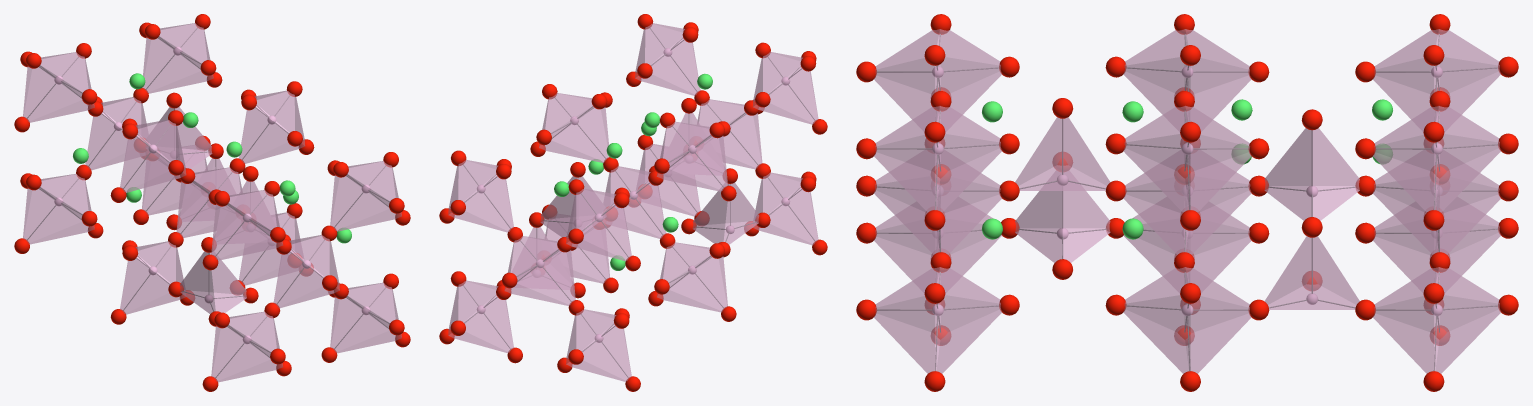
The picture shows the model from 3 angles, left to right: view 1: azimuth 30°, elevation 25°; view 2: azimuth 150°, elevation 25°; view 3: azimuth 270°, elevation 25°; orthographic projection. The views are drawn at different scales.
Parts seen in each view (by area): view 1: Shape_IndexedFaceSet, atom3_IndexedFaceSet, Shape_Cylinder, atom0_IndexedFaceSet, atom1_IndexedFaceSet; view 2: Shape_IndexedFaceSet, atom3_IndexedFaceSet, Shape_Cylinder, atom0_IndexedFaceSet, atom1_IndexedFaceSet; view 3: Shape_IndexedFaceSet, atom3_IndexedFaceSet, Shape_Cylinder, atom0_IndexedFaceSet, atom1_IndexedFaceSet.
Boxes of the visible parts, box(x1,y1,x2,y2) form: Shape_IndexedFaceSet: box(23, 23, 401, 382); atom3_IndexedFaceSet: box(14, 14, 410, 391); Shape_Cylinder: box(27, 28, 397, 377); atom0_IndexedFaceSet: box(73, 73, 351, 243); atom1_IndexedFaceSet: box(54, 46, 370, 343); Shape_IndexedFaceSet: box(448, 23, 818, 381); atom3_IndexedFaceSet: box(439, 14, 827, 391); Shape_Cylinder: box(451, 28, 814, 377); atom0_IndexedFaceSet: box(554, 73, 712, 270); atom1_IndexedFaceSet: box(476, 48, 789, 342); Shape_IndexedFaceSet: box(874, 29, 1500, 373); atom3_IndexedFaceSet: box(856, 14, 1518, 391); Shape_Cylinder: box(877, 34, 1497, 370); atom0_IndexedFaceSet: box(981, 99, 1392, 239); atom1_IndexedFaceSet: box(932, 66, 1442, 315).
Size of the model in its own units: 10.46 by 9.66 by 22.25.
